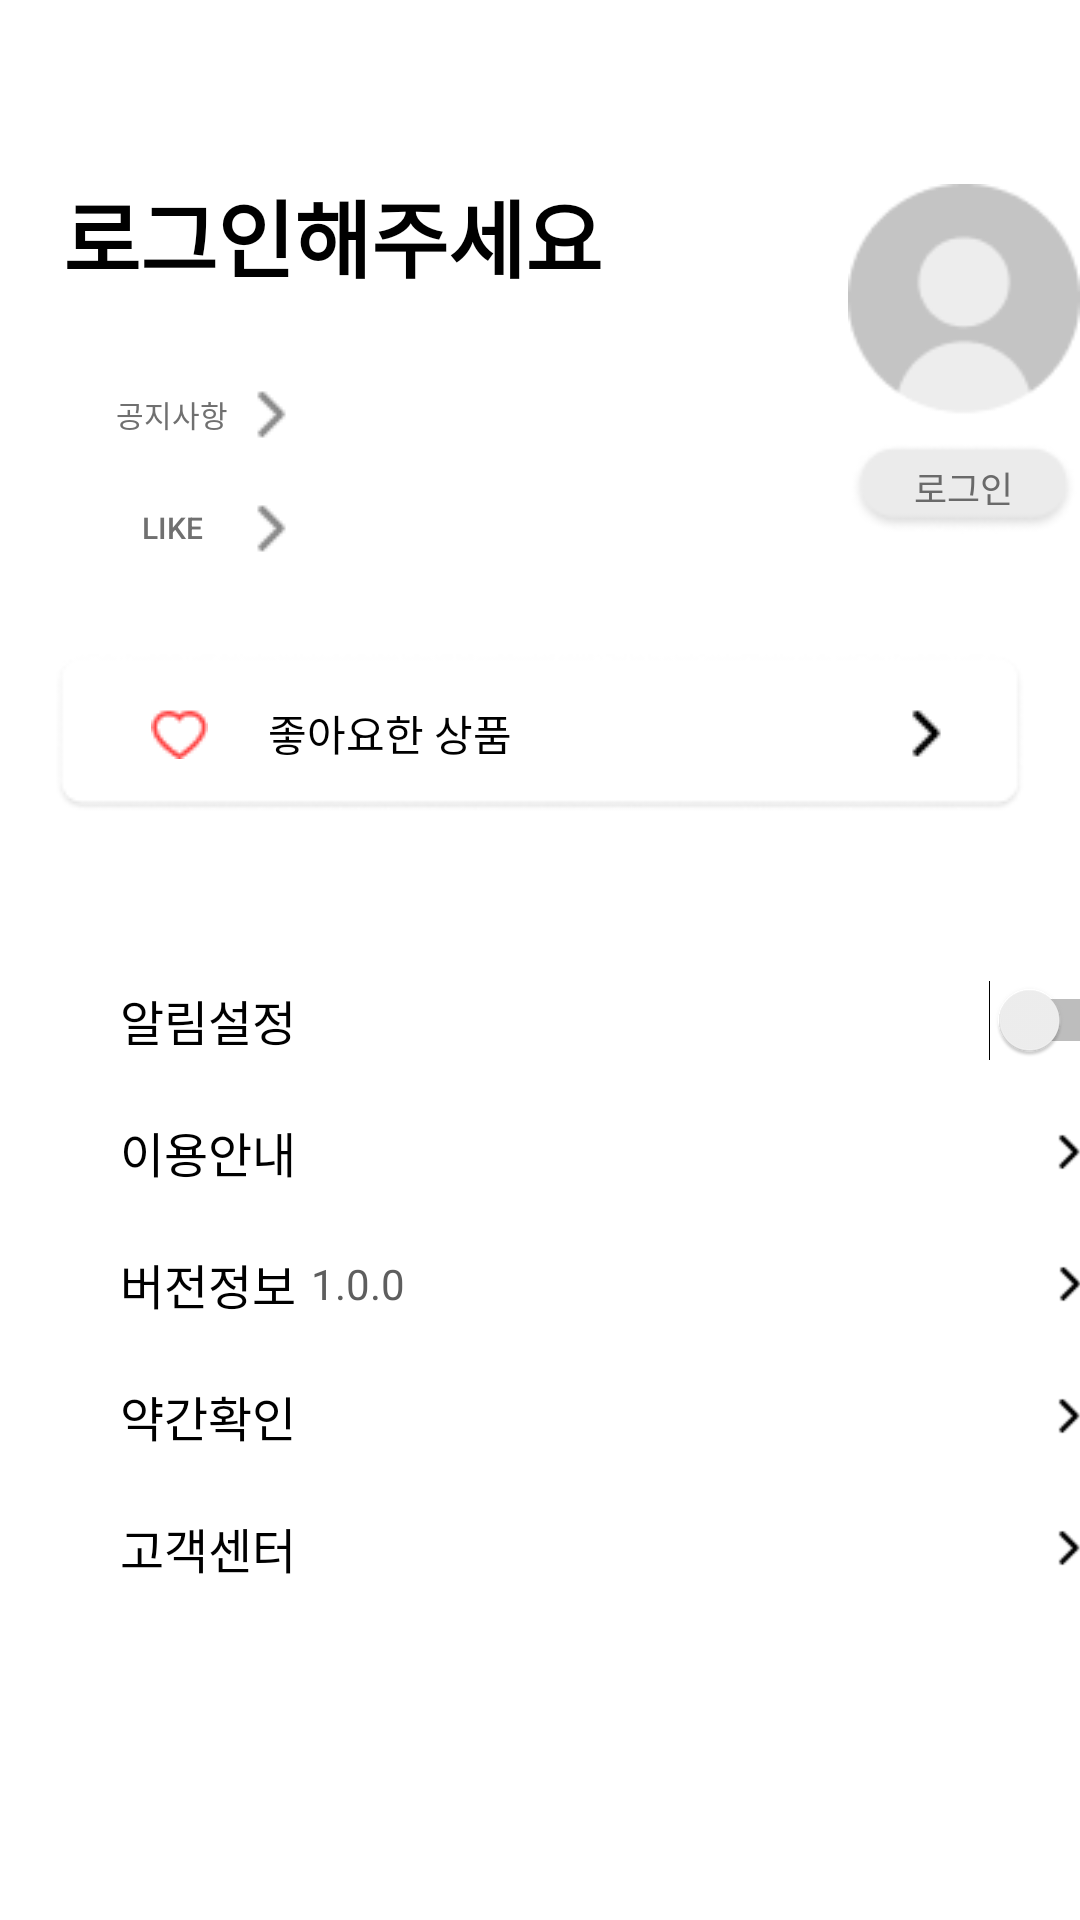

Icons on this 1080×1920 Android screen, each with its box as box(x1, y1, x2, y2):
profile: box(848, 184, 1080, 392)
